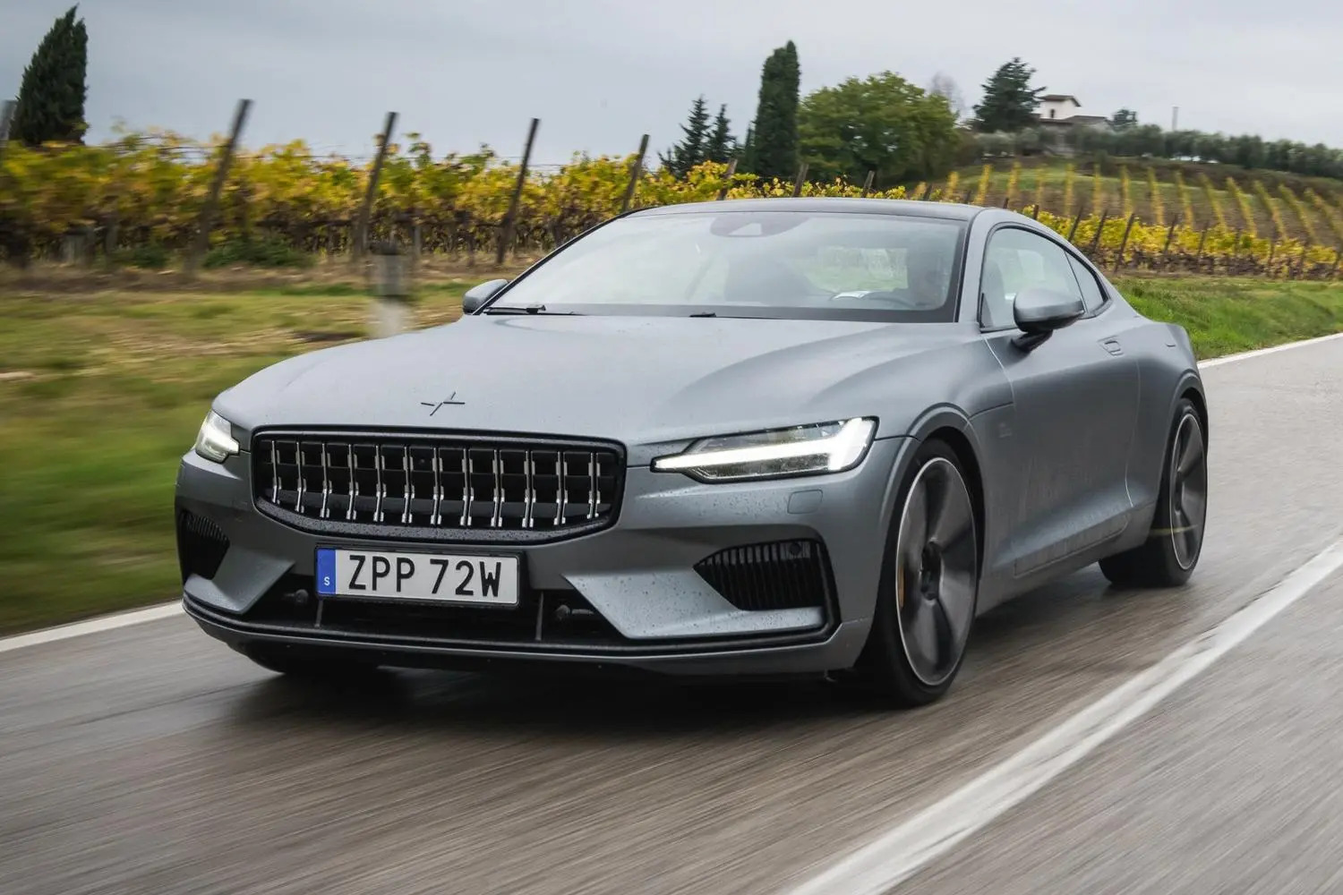Polestar: (420, 391, 465, 416)
